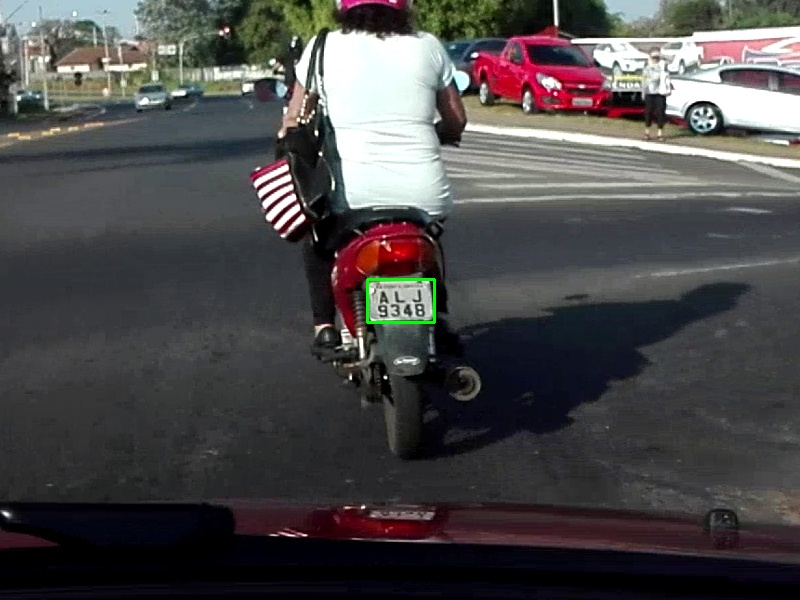placa: (367, 279, 434, 322)
